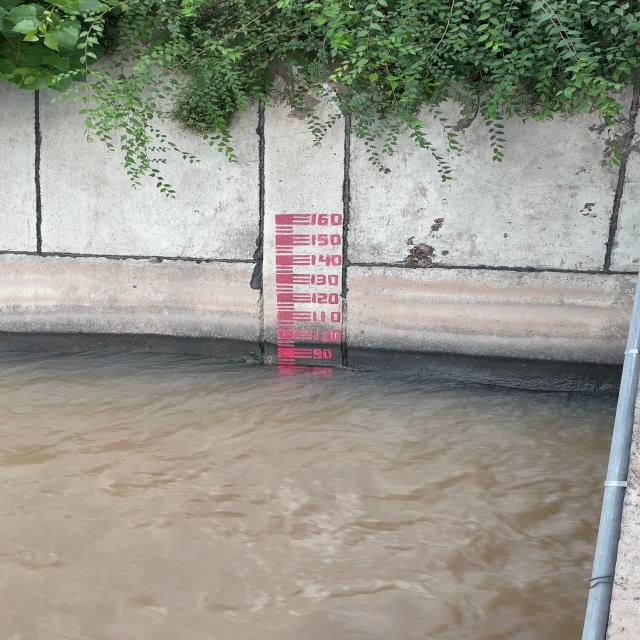ruler: (267, 212, 351, 368)
value: (308, 233, 346, 249), (306, 310, 346, 325), (308, 212, 347, 227), (308, 252, 344, 268), (309, 273, 344, 288), (309, 330, 346, 344), (309, 291, 344, 305), (311, 348, 336, 361)
